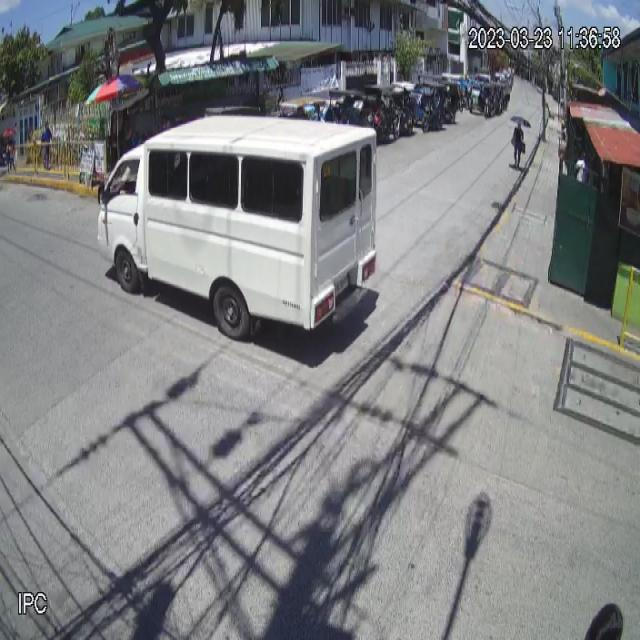Van: (96, 112, 378, 344)
